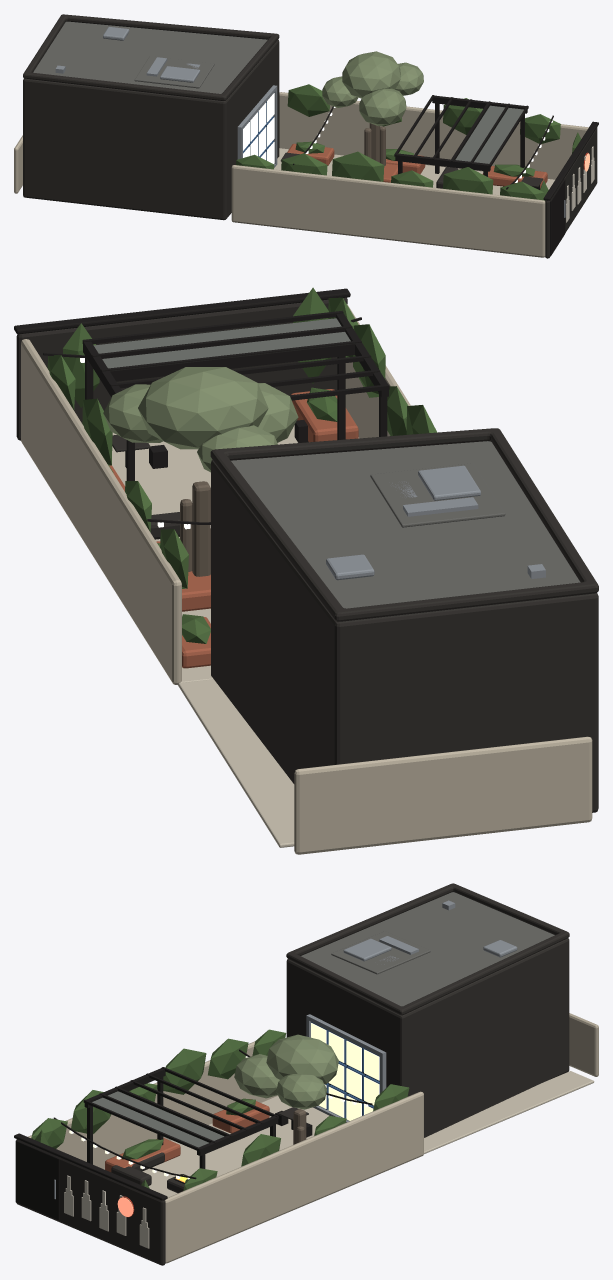
Rendered from 326-brannan.glb.
3 views of the same model, one above another, from view 1: azimuth 30°, elevation 25°; view 2: azimuth 150°, elevation 25°; view 3: azimuth 270°, elevation 25° (orthographic). The views are drawn at different scales.
Parts seen in each view (by area): view 1: ShedBody, WallSW, WallNE, ShedParapet, OliveCrown0, PergolaPanel, GateWall, OliveCrown1, VineSW3, RoofCurb, VineSW1, VineNE3 (+20 smaller); view 2: ShedBody, WallRear, WallNE, ShedParapet, OliveCrown0, SidePassage, GateWall, PergolaPanel, CourtSlab, RoofCurb, GateCap, PergolaSplitBeam (+23 smaller); view 3: ShedBody, WallNE, GateWall, ShedParapet, WallSW, CourtSlab, SidePassage, GateLeaf, OliveCrown0, PergolaPanel, WallRear, OliveCrown2 (+20 smaller).
Part boxes in pixels (left/top/right/bottom): ShedBody: left=23, top=21, right=279, bottom=220; WallSW: left=231, top=165, right=545, bottom=257; WallNE: left=279, top=92, right=588, bottom=179; ShedParapet: left=23, top=14, right=279, bottom=100; OliveCrown0: left=342, top=51, right=400, bottom=98; PergolaPanel: left=455, top=105, right=523, bottom=163; GateWall: left=545, top=127, right=597, bottom=258; OliveCrown1: left=359, top=88, right=406, bottom=126; VineSW3: left=332, top=151, right=384, bottom=181; RoofCurb: left=134, top=56, right=214, bottom=88; VineSW1: left=443, top=167, right=493, bottom=194; VineNE3: left=287, top=84, right=329, bottom=116; ShedBody: left=211, top=441, right=598, bottom=812; WallRear: left=294, top=736, right=592, bottom=854; WallNE: left=21, top=339, right=181, bottom=684; ShedParapet: left=210, top=428, right=598, bottom=621; OliveCrown0: left=138, top=367, right=268, bottom=449; SidePassage: left=178, top=679, right=294, bottom=847; GateWall: left=16, top=297, right=347, bottom=440; PergolaPanel: left=93, top=318, right=350, bottom=368; CourtSlab: left=112, top=425, right=359, bottom=685; RoofCurb: left=370, top=463, right=505, bottom=527; GateCap: left=14, top=288, right=350, bottom=334; PergolaSplitBeam: left=106, top=343, right=354, bottom=381; ShedBody: left=286, top=892, right=569, bottom=1137; WallNE: left=165, top=1091, right=423, bottom=1263; GateWall: left=16, top=1139, right=165, bottom=1265; ShedParapet: left=286, top=883, right=569, bottom=1015; WallSW: left=28, top=1041, right=277, bottom=1168; CourtSlab: left=104, top=1096, right=328, bottom=1197; SidePassage: left=424, top=1071, right=594, bottom=1153; GateLeaf: left=15, top=1140, right=59, bottom=1220; OliveCrown0: left=266, top=1034, right=338, bottom=1084; PergolaPanel: left=92, top=1091, right=224, bottom=1147; WallRear: left=569, top=1013, right=598, bottom=1076; OliveCrown2: left=276, top=1073, right=327, bottom=1109.
Bounding box in the file's own units: 22.31 × 5.9 × 22.36.
